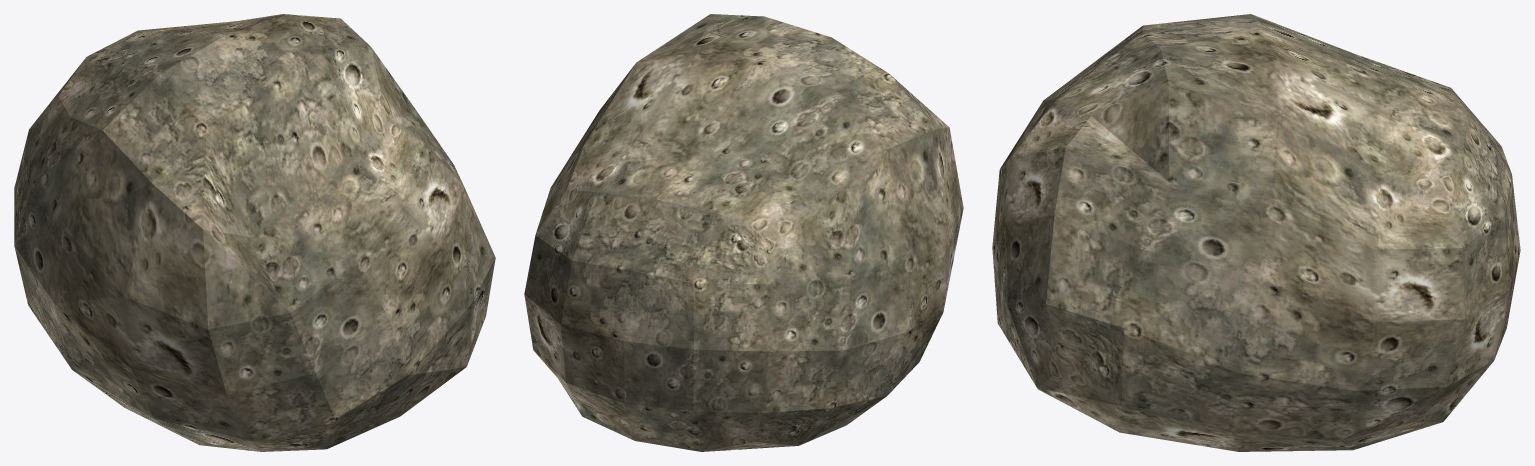
The model's file is asteroid_radial_s01_l0.fbx.
The picture shows the model from 3 angles, left to right: view 1: azimuth 30°, elevation 25°; view 2: azimuth 150°, elevation 25°; view 3: azimuth 270°, elevation 25°; orthographic projection. The views are drawn at different scales.
Parts seen in each view (by area): view 1: mesh_node; view 2: mesh_node; view 3: mesh_node.
Part boxes in pixels (x1,y1,x2,y2): mesh_node: [14, 14, 495, 451]; mesh_node: [524, 14, 963, 451]; mesh_node: [992, 14, 1520, 451].
Bounding box in the file's own units: 2.28 × 2.29 × 2.85.
